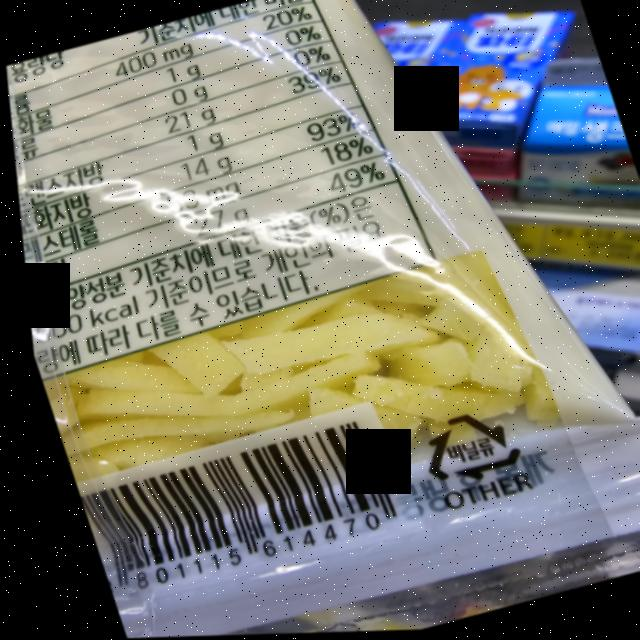Vinyl: (401, 402, 522, 499)
